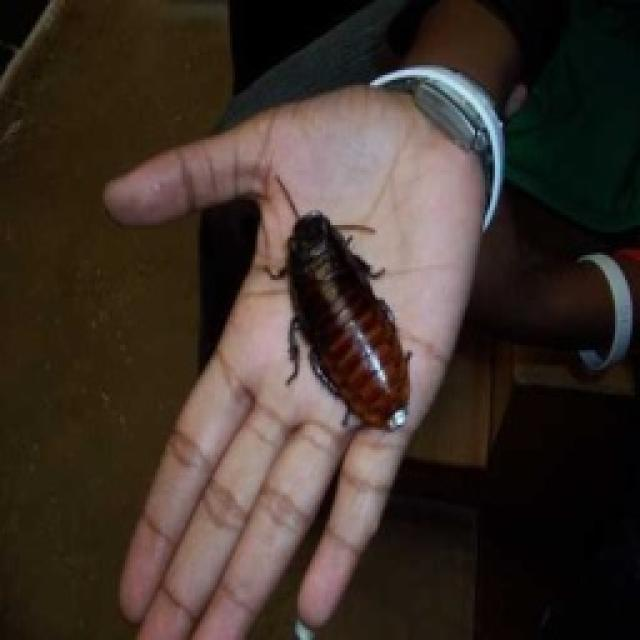cockroach: (260, 171, 418, 434)
